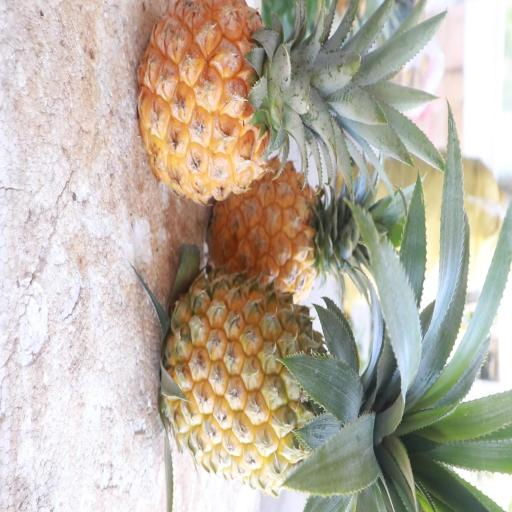Pineapple - v8 v1: (157, 260, 388, 500), (134, 1, 357, 210), (205, 159, 380, 300)
